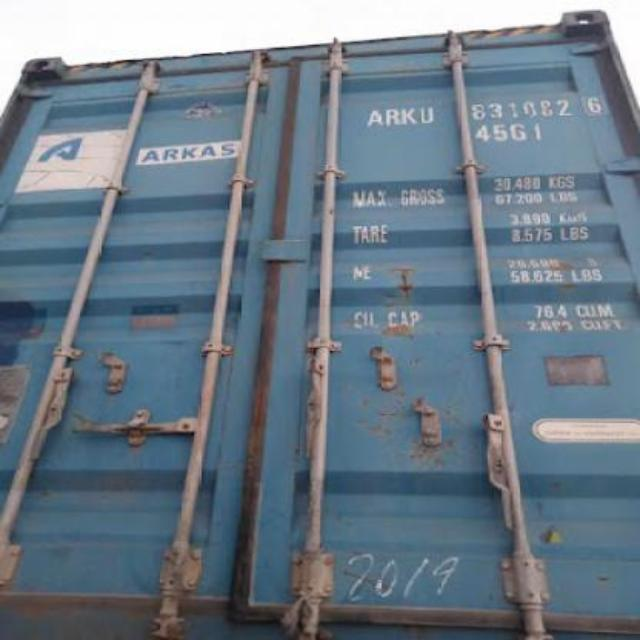0: (522, 100, 536, 116)
1: (506, 102, 520, 122)
2: (558, 100, 570, 116)
3: (488, 102, 504, 120)
6: (586, 98, 602, 114)
8: (470, 101, 486, 122), (540, 99, 554, 117)
A: (364, 108, 382, 128)
K: (400, 106, 418, 126)
R: (384, 106, 400, 128)
U: (418, 104, 436, 126)
